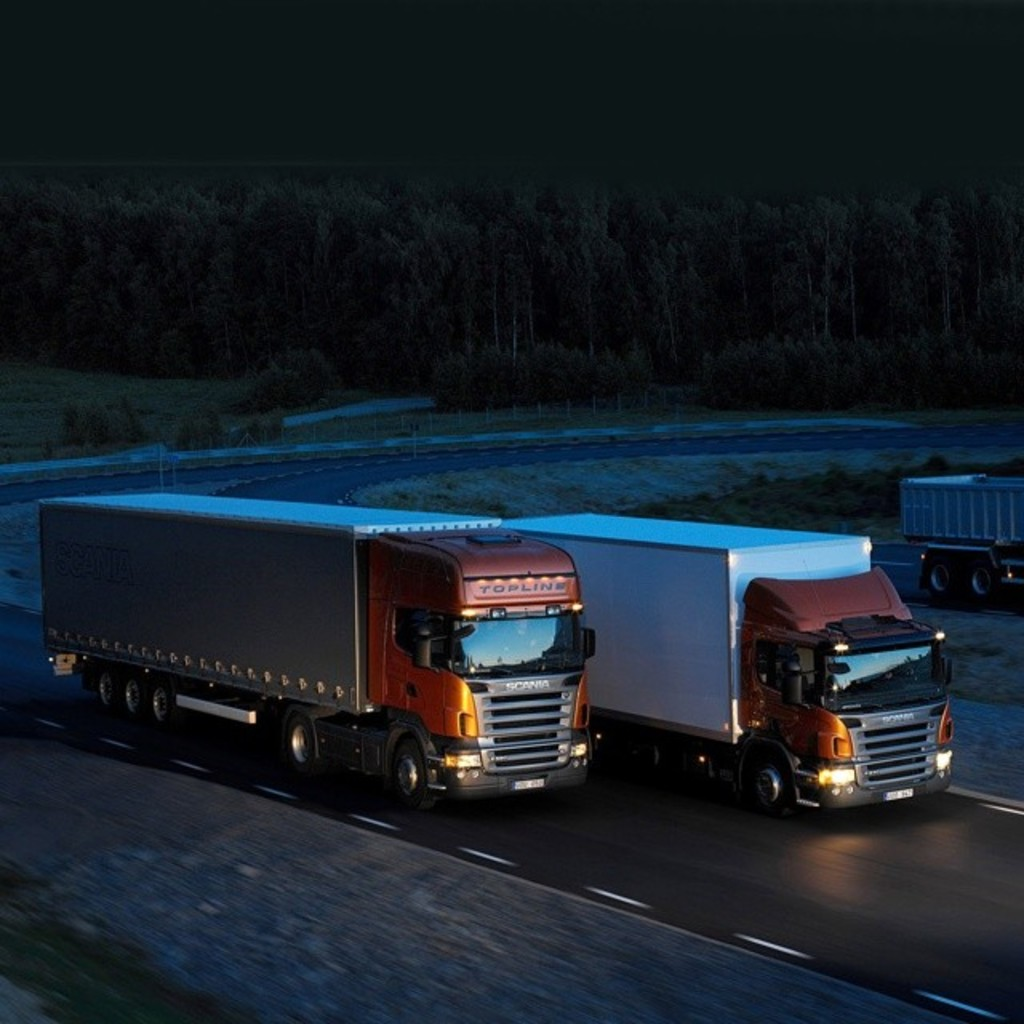truck: (19, 461, 613, 835), (519, 503, 985, 836)
